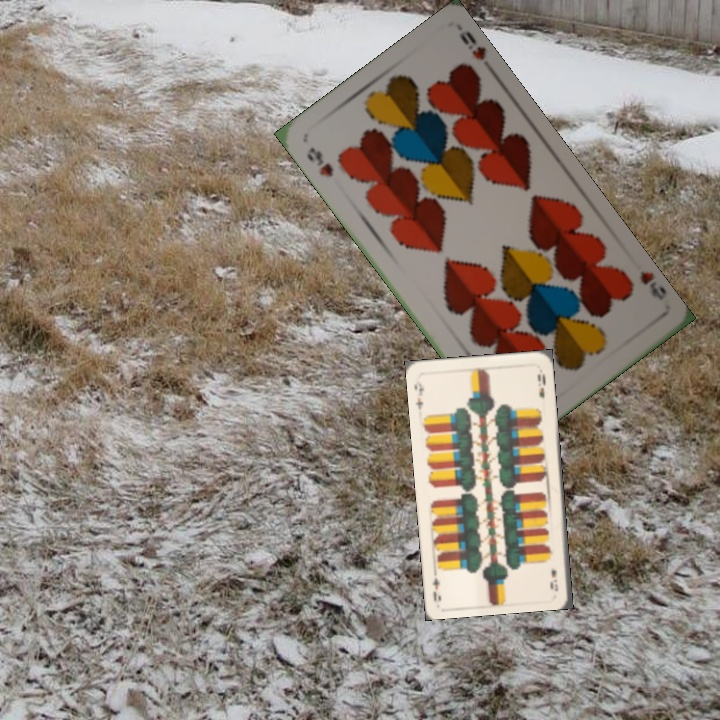E9: (410, 377, 427, 412), (547, 564, 561, 593)
H9: (302, 142, 337, 180), (636, 267, 668, 303)
